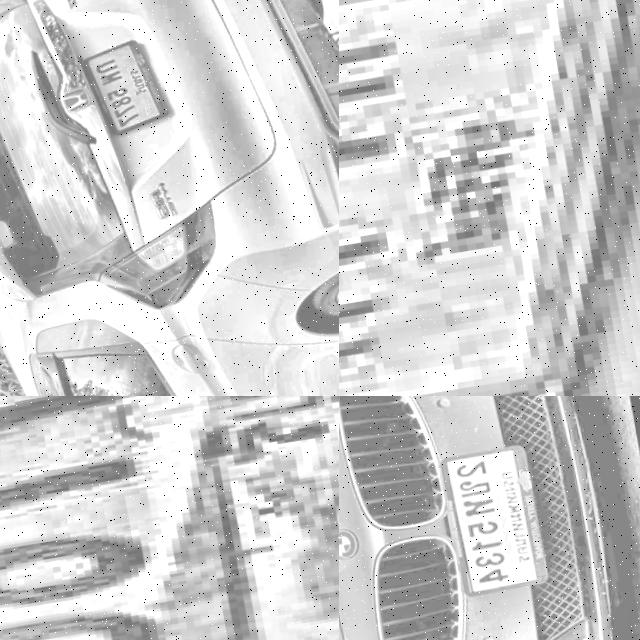license-plate: (339, 0, 640, 396), (0, 396, 339, 640), (429, 443, 553, 601), (73, 35, 173, 142)
